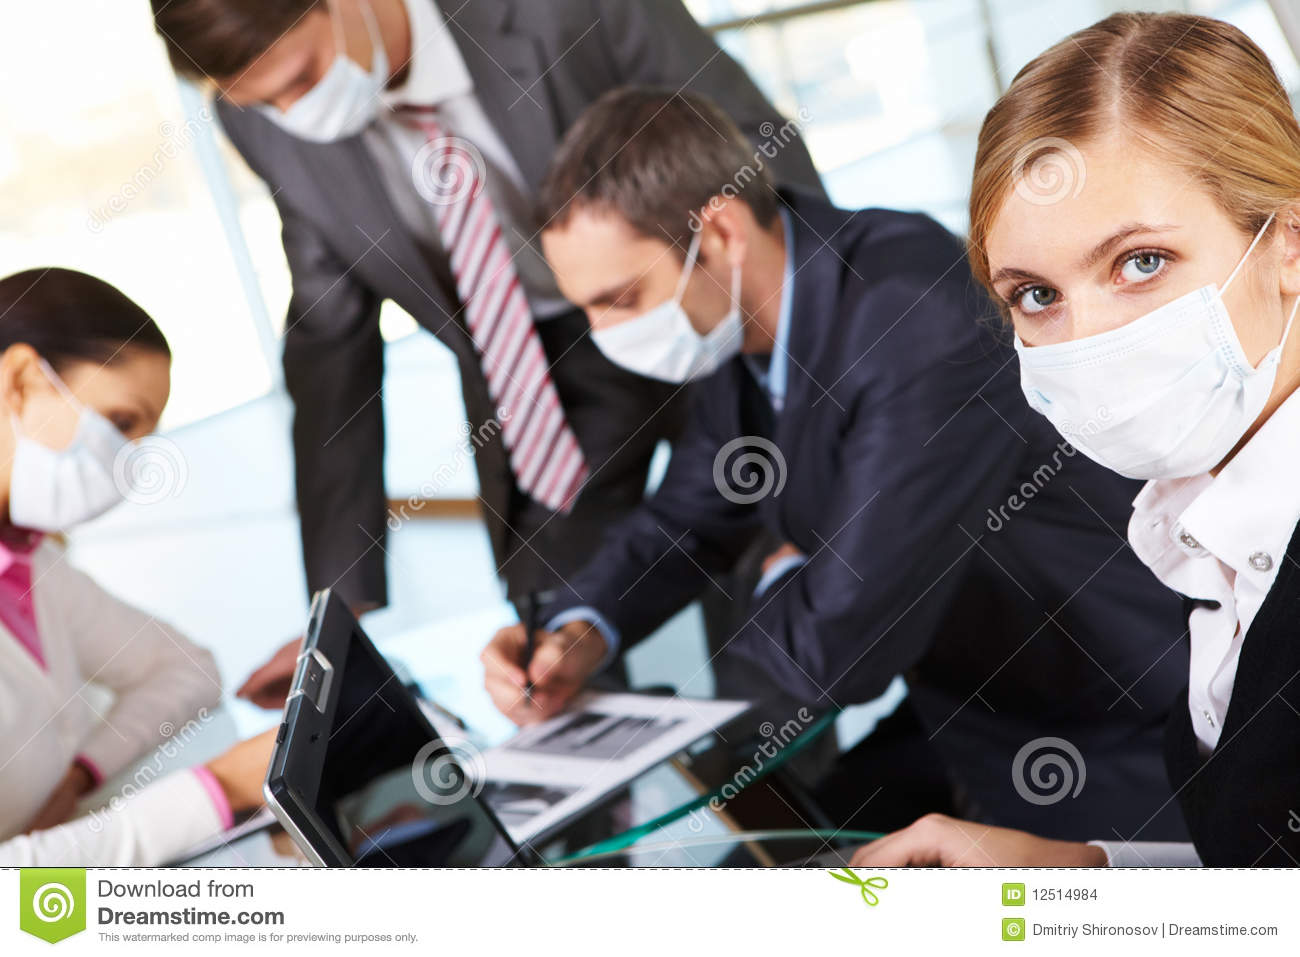mask: (1009, 287, 1279, 478)
